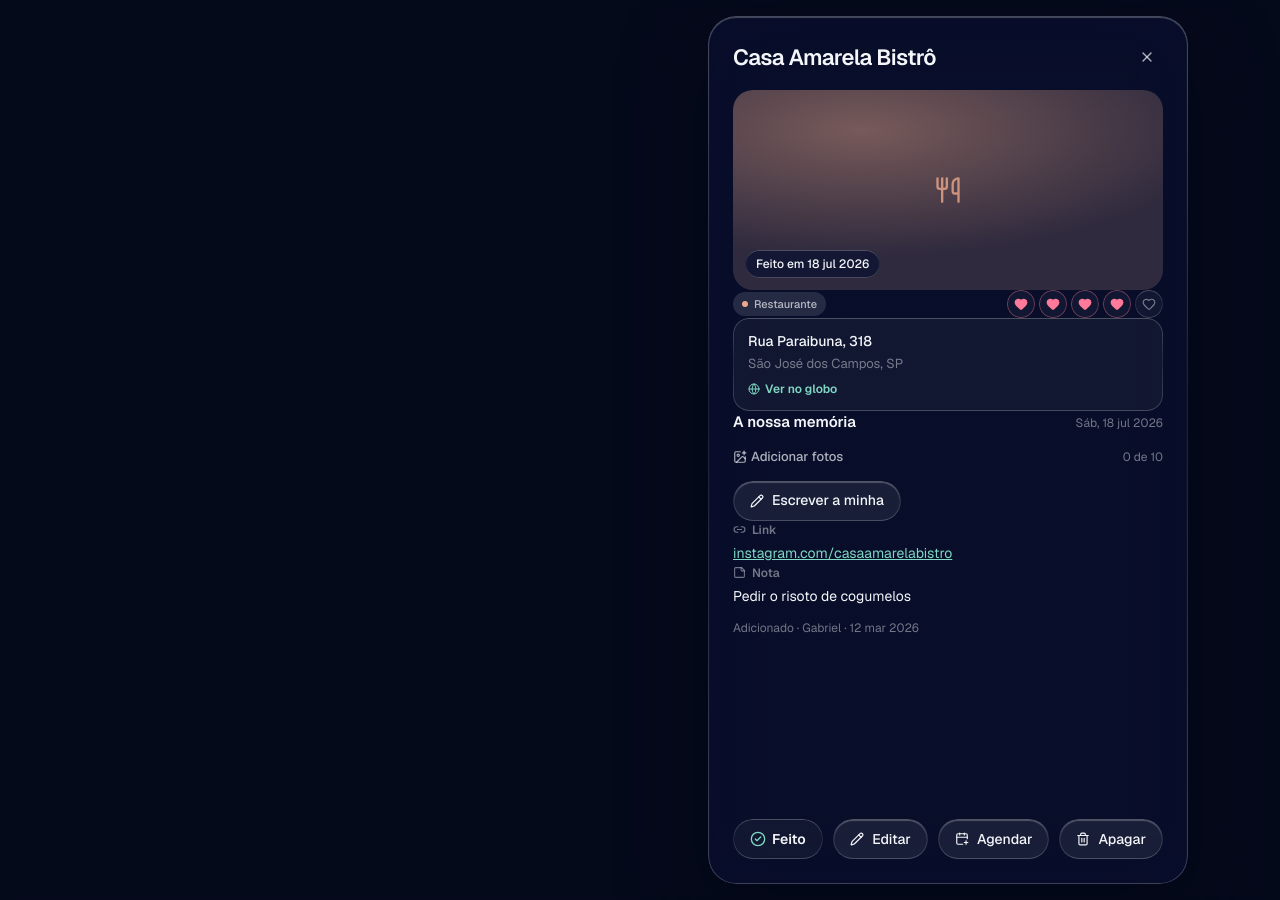
it: A16 — corações gravam no gesto (R16, R28) › falha: volta ao valor anterior e mostra a causa
Click the button named "5 de 5".
click(1149, 304)  # box [1135,290,1163,318]
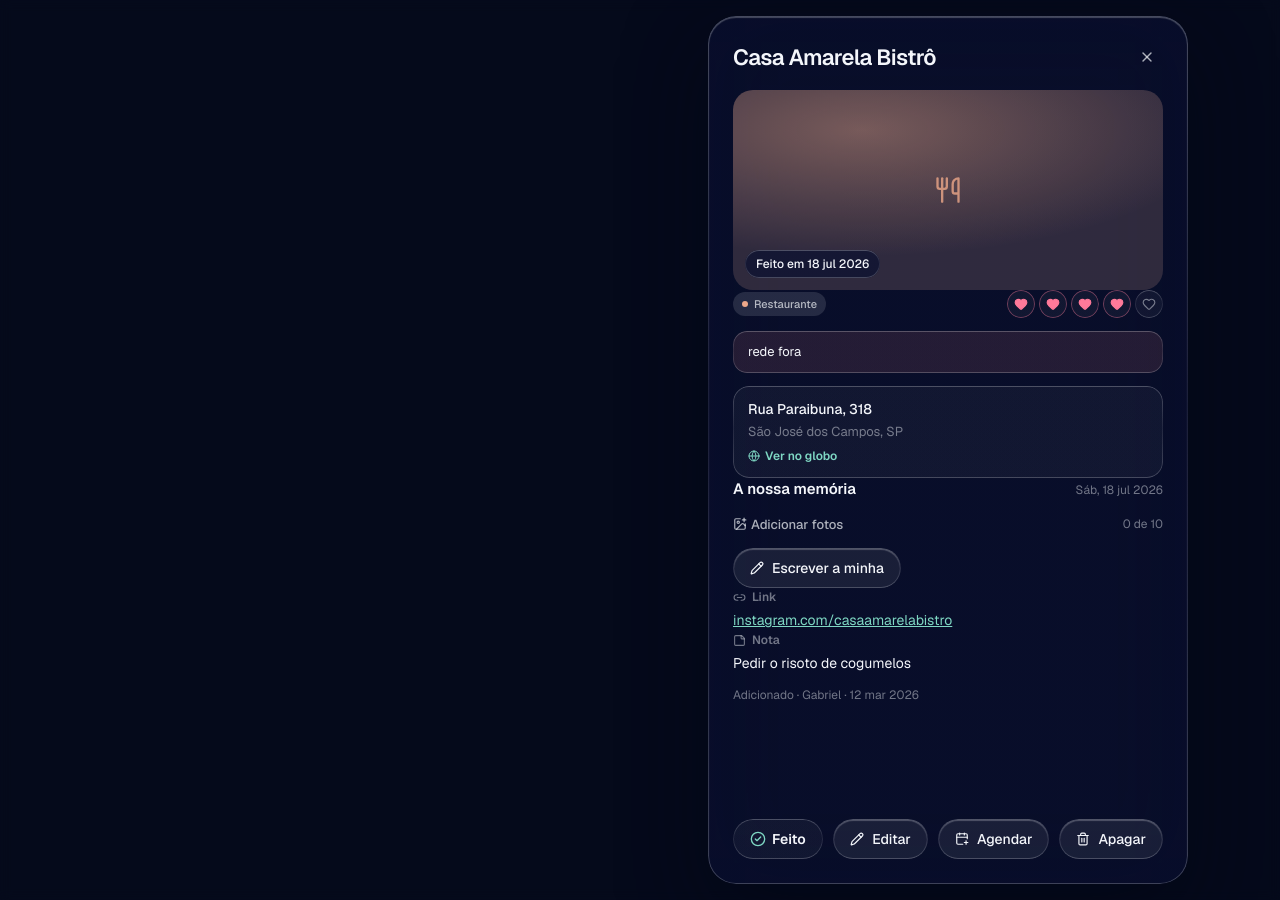
Expected: the message reads "rede fora", [748,343,801,360]
